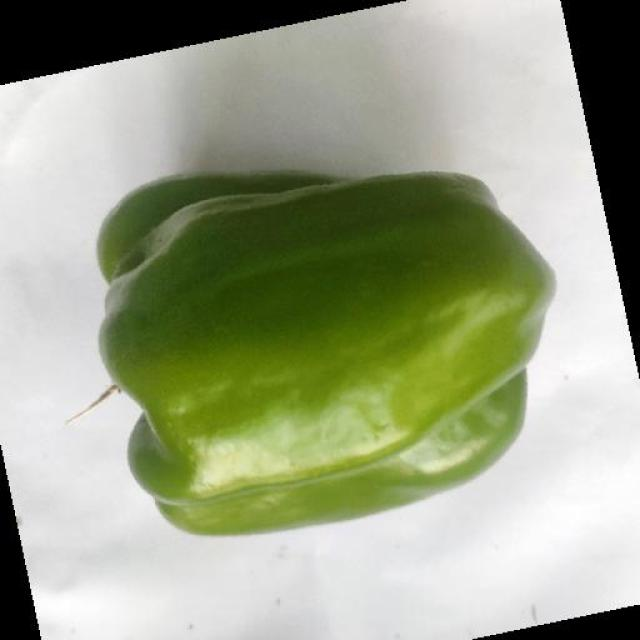Fresh_Capsicum: (118, 147, 540, 512)
